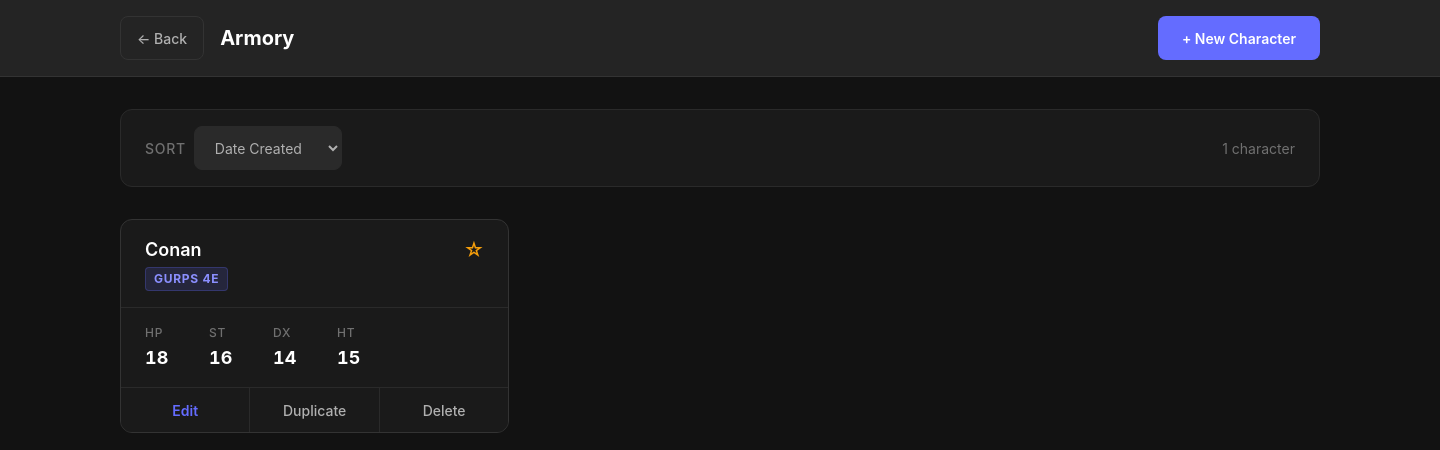
Test: CharacterArmory › clicking Delete first time shows "Confirm?"
Click the button "Delete": (444, 410) [380,388,508,432]
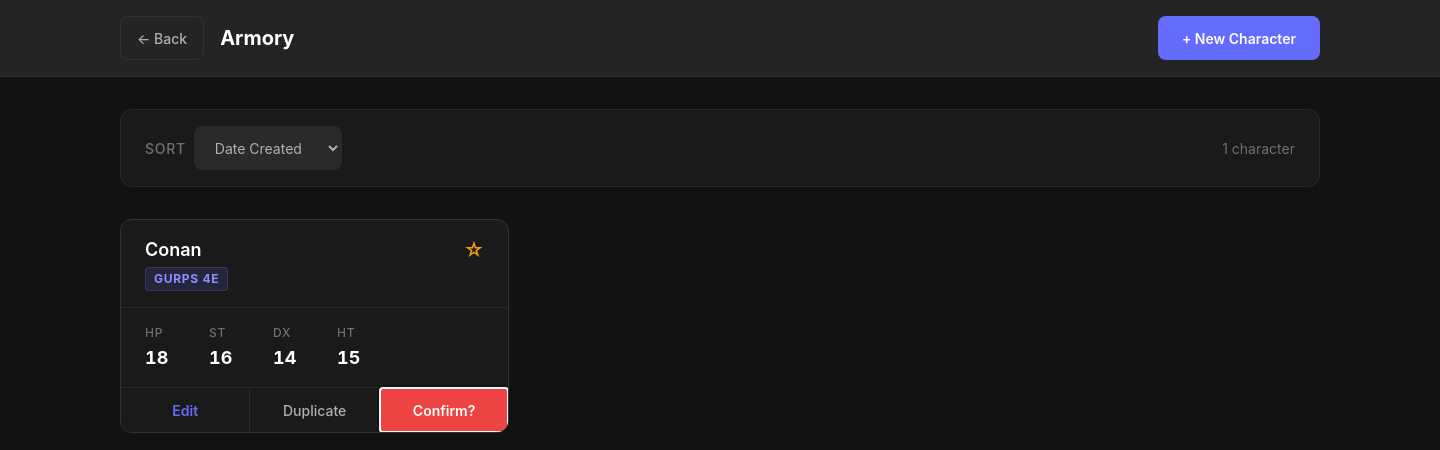
Expected: the button "Confirm?" is shown, [380,388,508,432]
